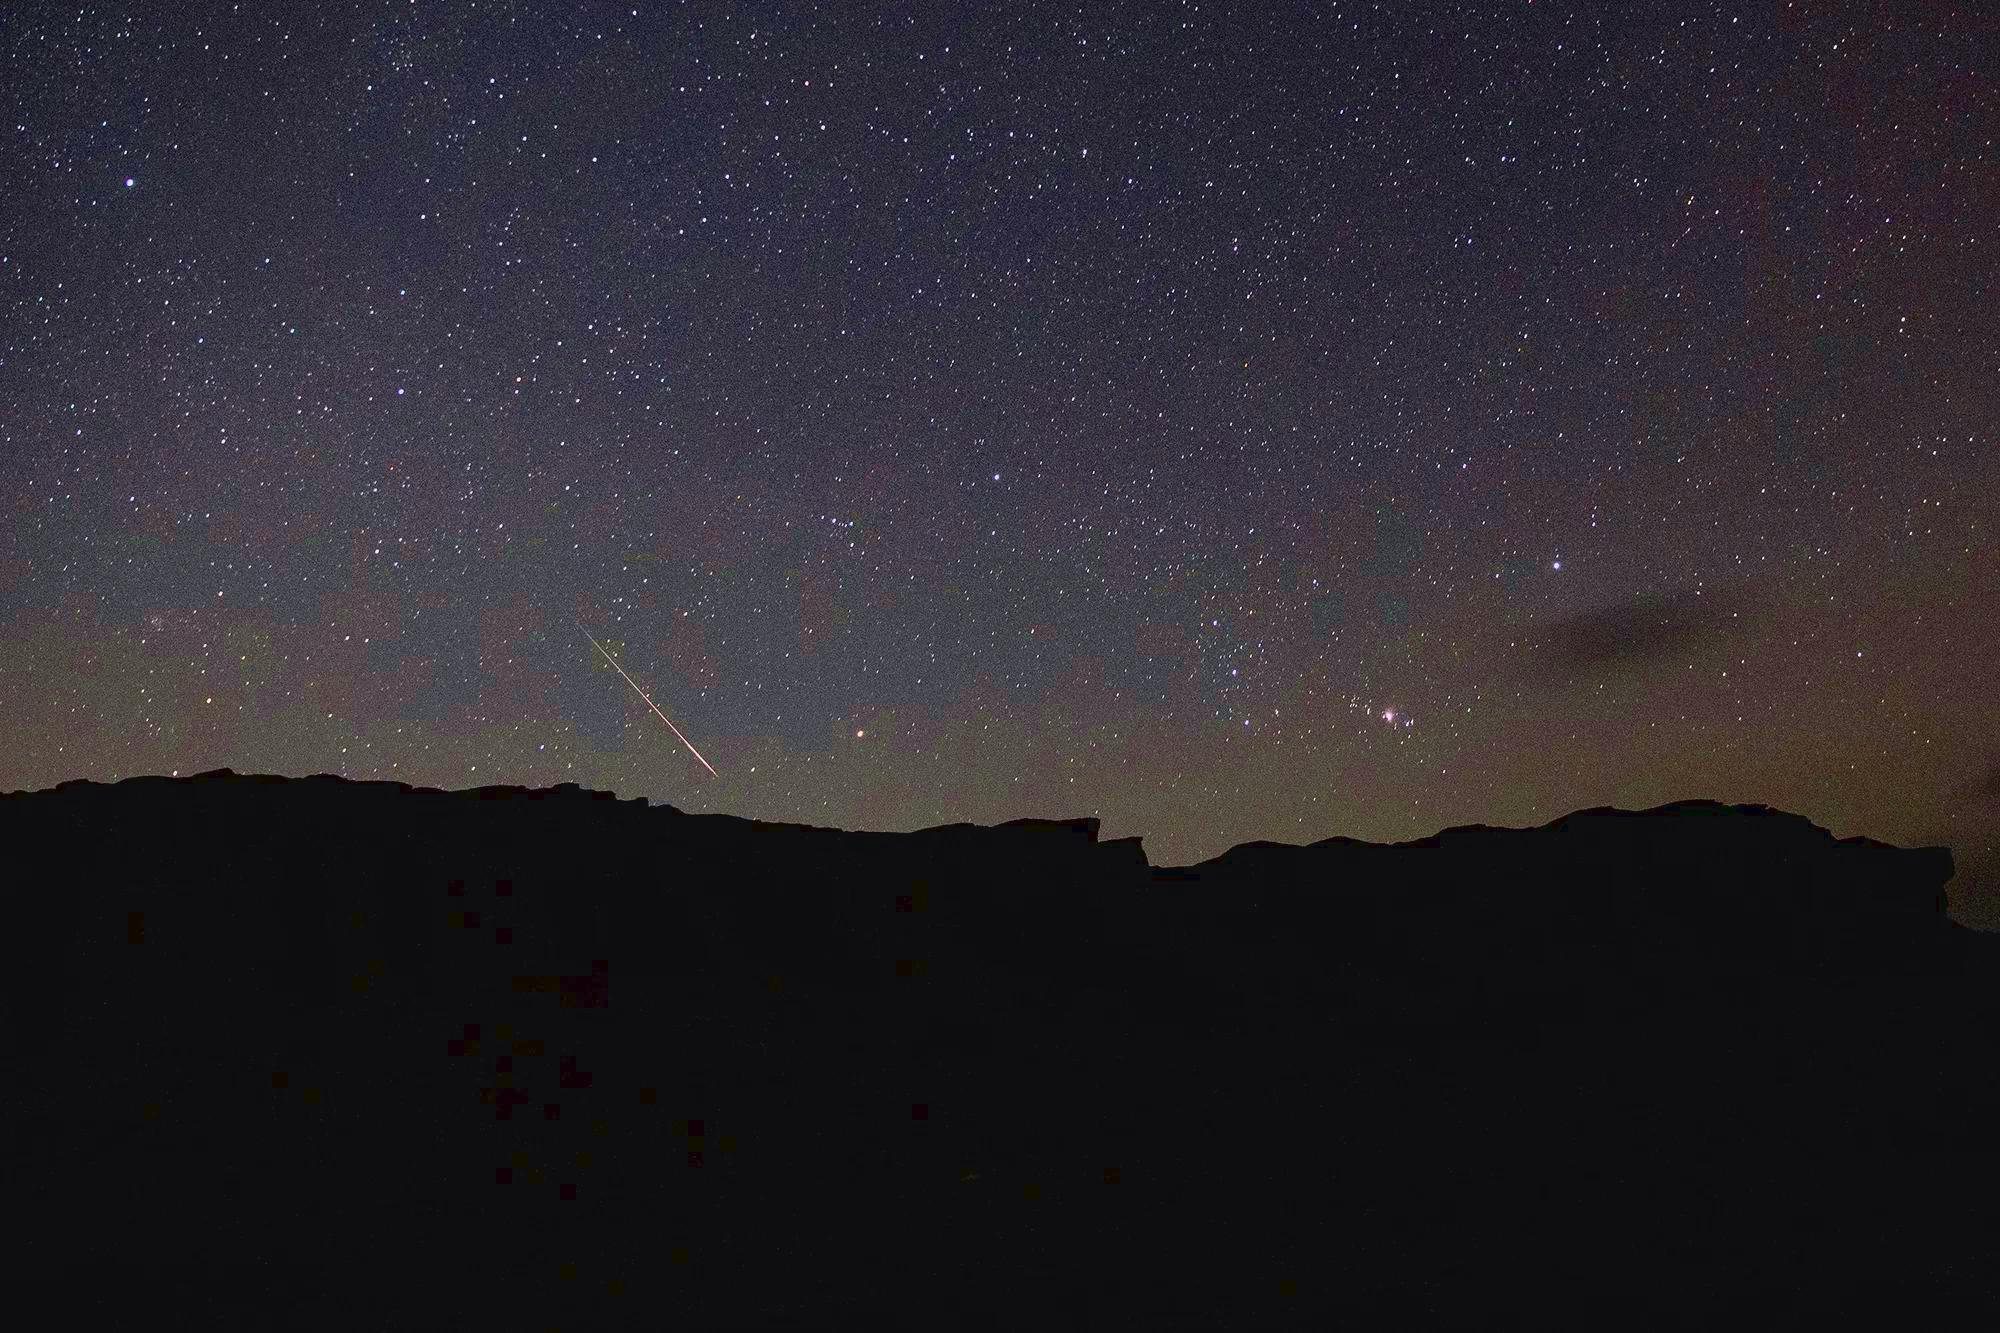meteorite: (549, 611, 784, 793)
